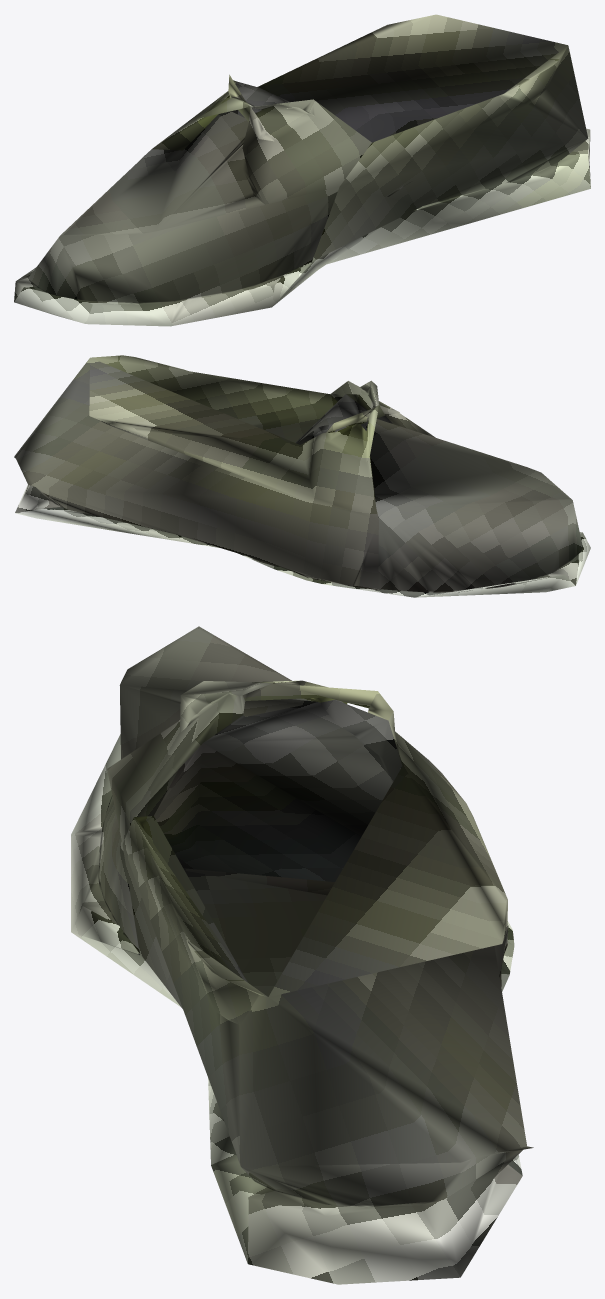
Rendered from Womens_Authentic_Original_Boat_Shoe_in_Classic_Brown_Leather-low.glb.
3 renders of one model, top to bottom at view 1: azimuth 30°, elevation 25°; view 2: azimuth 150°, elevation 25°; view 3: azimuth 270°, elevation 25°, orthographic. The views are drawn at different scales.
Parts seen in each view (by area): view 1: Womens_Authentic_Original_Boat_Shoe_in_Classic_Brown_Leather; view 2: Womens_Authentic_Original_Boat_Shoe_in_Classic_Brown_Leather; view 3: Womens_Authentic_Original_Boat_Shoe_in_Classic_Brown_Leather.
Part boxes in pixels (x1,y1,x2,y2): Womens_Authentic_Original_Boat_Shoe_in_Classic_Brown_Leather: [14, 14, 590, 326]; Womens_Authentic_Original_Boat_Shoe_in_Classic_Brown_Leather: [14, 355, 590, 597]; Womens_Authentic_Original_Boat_Shoe_in_Classic_Brown_Leather: [71, 626, 533, 1284].
Bounding box in the file's own units: 0.2423 × 0.0679 × 0.0928.
1 material, 1 textured.
